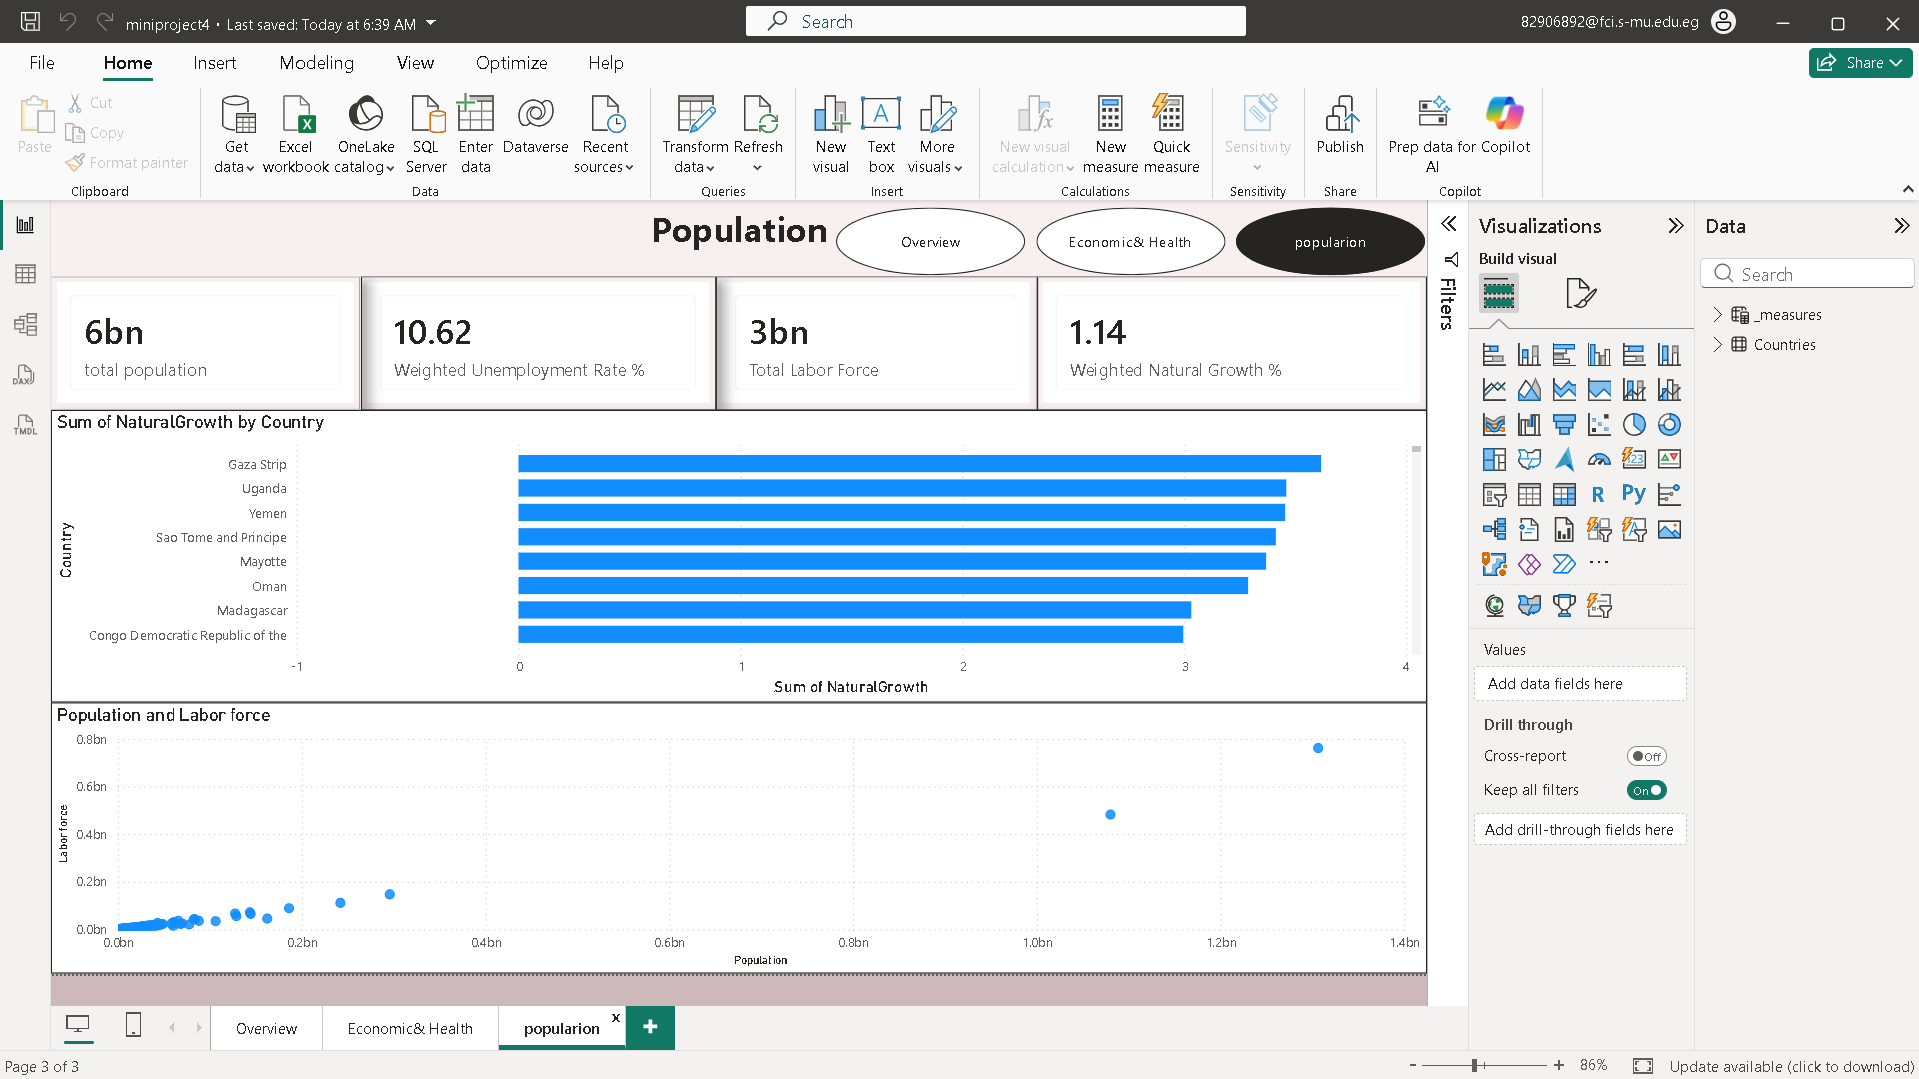

The page's visual inventory and layout, read from the dashboard file:
{"tool":"powerbi","page":{"name":"popularion","canvas":[1280,720],"ordinal":2},"visuals":[{"type":"cardVisual","fields":{"Data":["_measures.Total Labor Force"]},"box":[618.6,70.9,298.8,124.4],"z":0},{"type":"cardVisual","fields":{"Data":["_measures.Weighted Unemployment Rate %"]},"box":[288.4,70.9,330.2,124.4],"z":1000},{"type":"cardVisual","fields":{"Data":["_measures.total population"]},"box":[0,70.9,288.4,124.4],"z":2000},{"type":"cardVisual","fields":{"Data":["_measures.Weighted Natural Growth %"]},"box":[917.4,70.9,362.8,124.4],"z":3000},{"type":"textbox","box":[0,0,1280.2,70.9],"z":4000},{"type":"clusteredBarChart","fields":{"Category":["Countries.Country"],"Y":["Sum(Countries.NaturalGrowth)"]},"box":[0,195.3,1280.2,272.1],"z":4001},{"type":"scatterChart","fields":{"Y":["Countries.Labor force"],"X":["Countries.Population"]},"box":[0,467.4,1280.2,252.3],"z":4002},{"type":"pageNavigator","box":[730.2,7,550,64],"z":4003}]}

Visuals, with their boxes on the page's 1280x720 design canvas (x1, y1, x2, y2). These are canvas units, not pixel positions in the 1919x1079 screenshot, which may show the page scaled, cropped or inside an application window:
cardVisual - _measures.Total Labor Force: 619/71/917/195
cardVisual - _measures.Weighted Unemployment Rate %: 288/71/619/195
cardVisual - _measures.total population: 0/71/288/195
cardVisual - _measures.Weighted Natural Growth %: 917/71/1280/195
textbox: 0/0/1280/71
clusteredBarChart - Countries.Country x Sum(Countries.NaturalGrowth): 0/195/1280/467
scatterChart - Countries.Labor force x Countries.Population: 0/467/1280/720
pageNavigator: 730/7/1280/71
